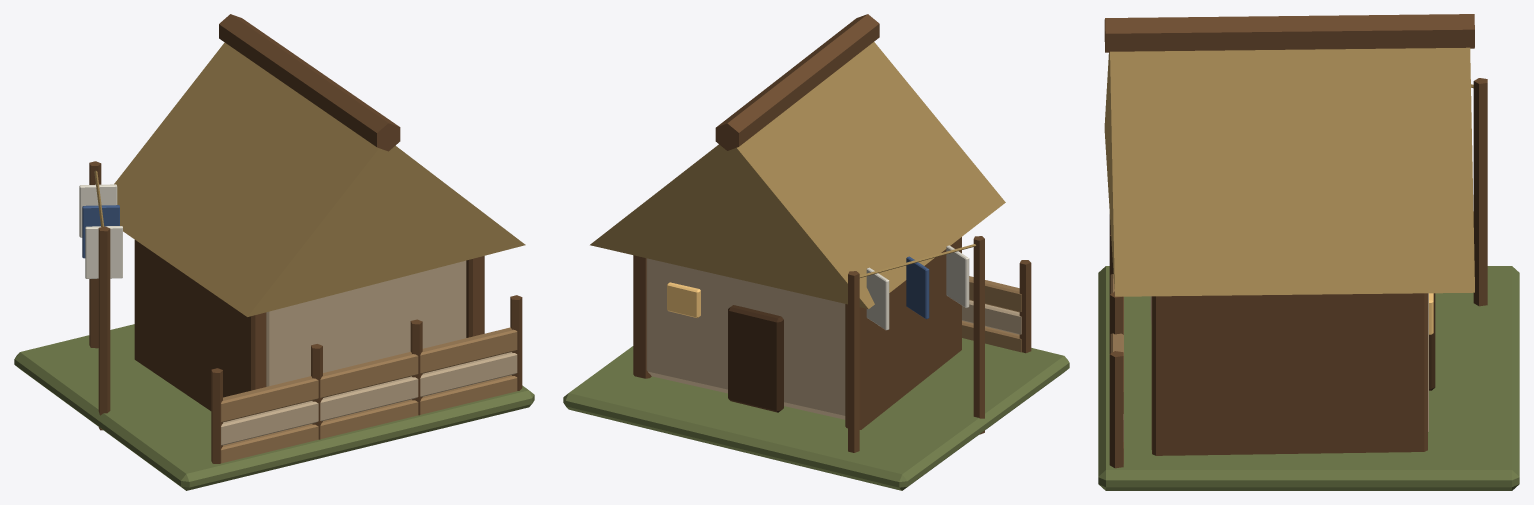
File: cultist_hut.fbx
3 views of the same model, side by side, from view 1: azimuth 30°, elevation 25°; view 2: azimuth 150°, elevation 25°; view 3: azimuth 270°, elevation 25° (orthographic). The views are drawn at different scales.
Parts seen in each view (by area): view 1: Building; view 2: Building; view 3: Building.
Part boxes in pixels (x1,y1,x2,y2): Building: (14,14,534,490); Building: (563,14,1069,490); Building: (1098,14,1519,490).
Size of the model in its own units: 1.3 by 1.1 by 1.12.
